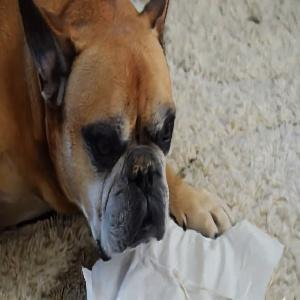keratosis: (124, 150, 156, 177)
